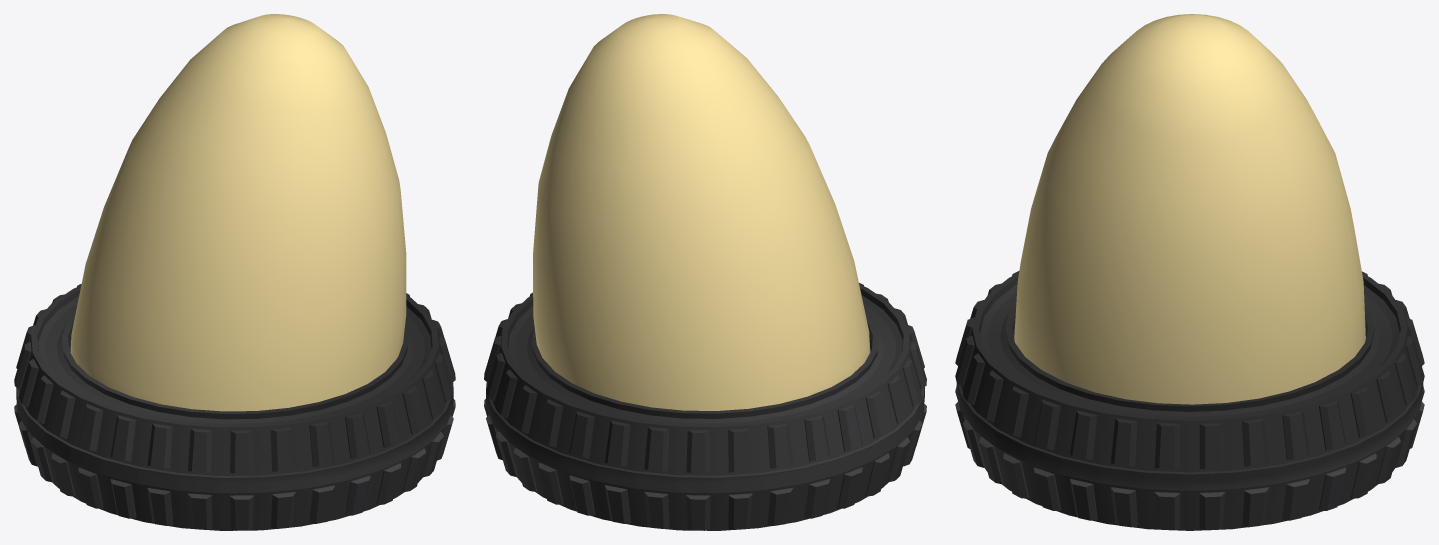
Rendered from EGG_IN_A_WHEEL.fbx.
3 renders of one model, left to right at view 1: azimuth 30°, elevation 25°; view 2: azimuth 150°, elevation 25°; view 3: azimuth 270°, elevation 25°, orthographic. The views are drawn at different scales.
Parts seen in each view (by area): view 1: Sphere, Cylinder; view 2: Sphere, Cylinder; view 3: Sphere, Cylinder.
Boxes of the visible parts, x1,y1,x2,y2 form: Sphere: (70, 14, 406, 411); Cylinder: (14, 284, 455, 530); Sphere: (533, 14, 870, 410); Cylinder: (484, 283, 926, 530); Sphere: (1014, 14, 1365, 404); Cylinder: (955, 271, 1424, 530).
Size of the model in its own units: 1889 by 2249 by 1889.
